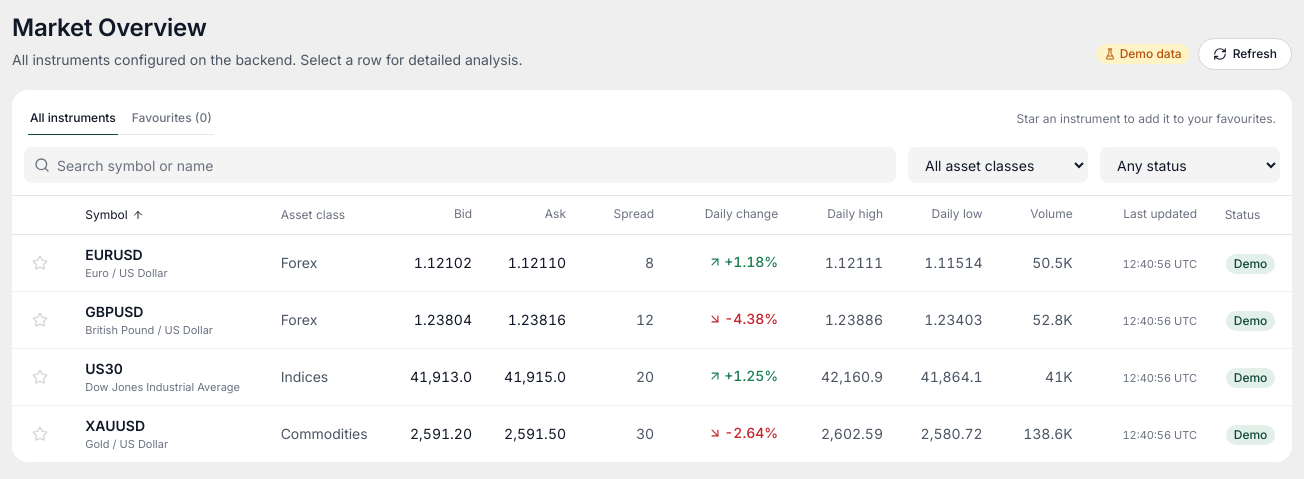
it: favourites › stars an instrument and filters Market Overview to favourites
The width and height of the screenshot is (1304, 479).
Check: the text "Euro / US Dollar" is shown, box [85,266,168,280]
Click the radio button labelled "Favourites (0)": (172, 118) [130,102,214,134]
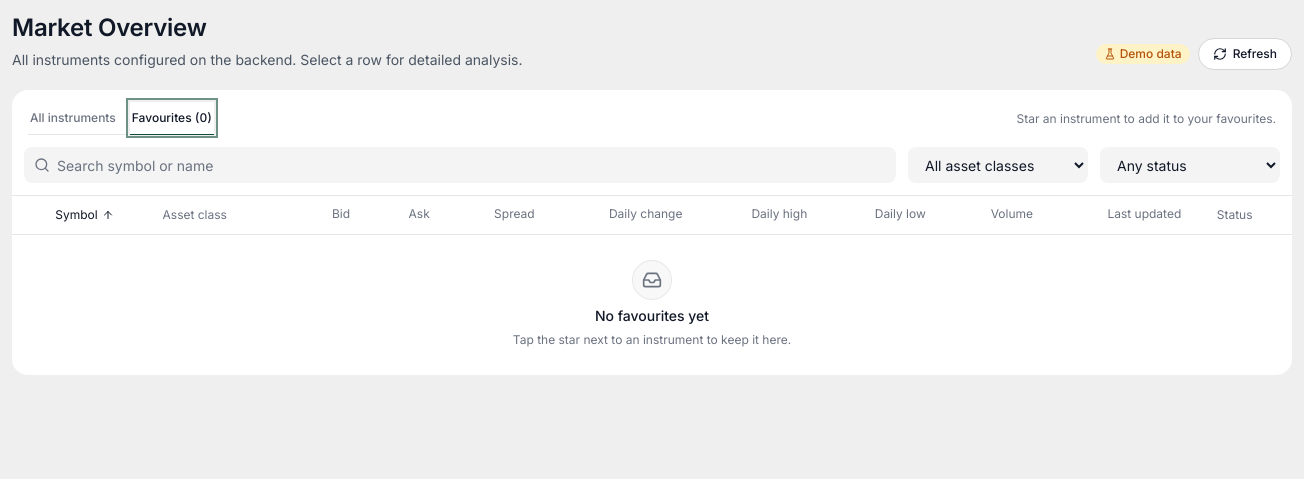
Check: the text "No favourites yet" is shown, box [595,307,709,324]
Click the radio button labelled "All instruments": (73, 118) [28,102,118,134]
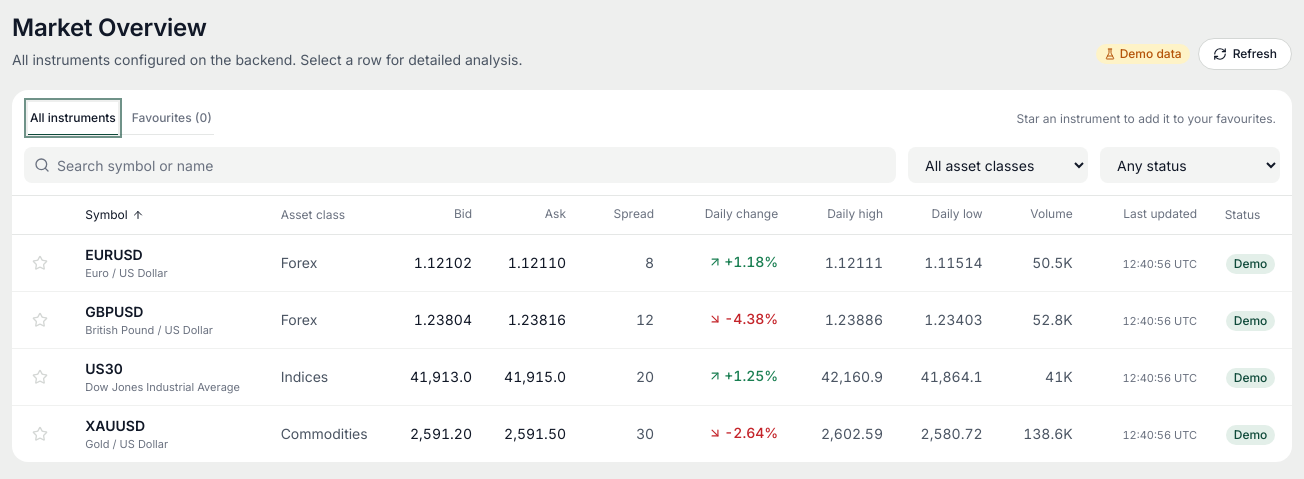
Click the button named "Add GBPUSD to favourites": (40, 320) [24,304,56,336]
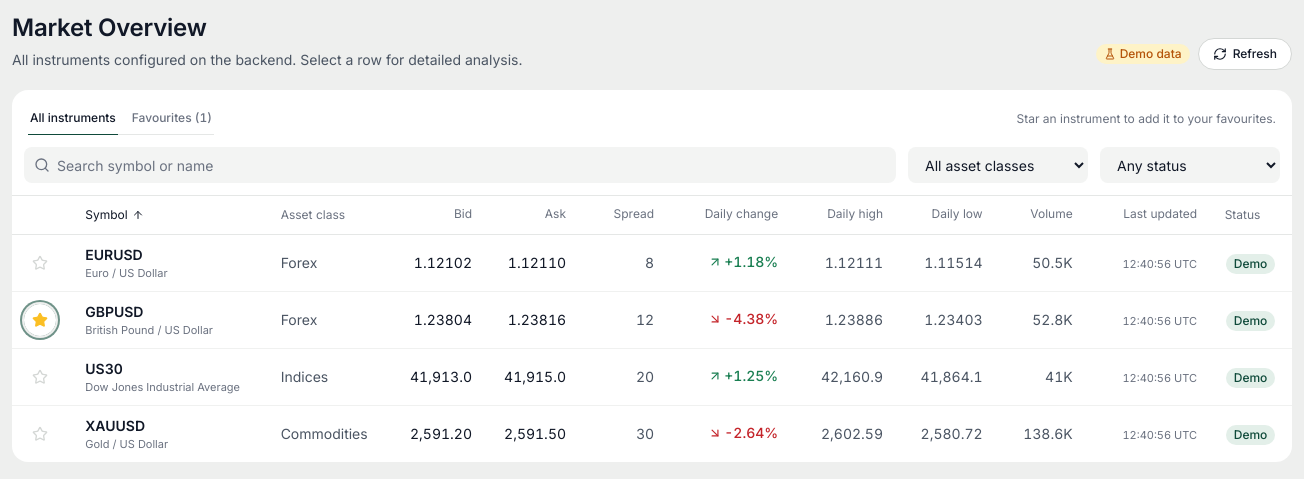
Check: the button named "Remove GBPUSD from favourites" is pressed, box [24,304,56,336]
Click the radio button labelled "Favourites (1)": (172, 118) [130,102,214,134]
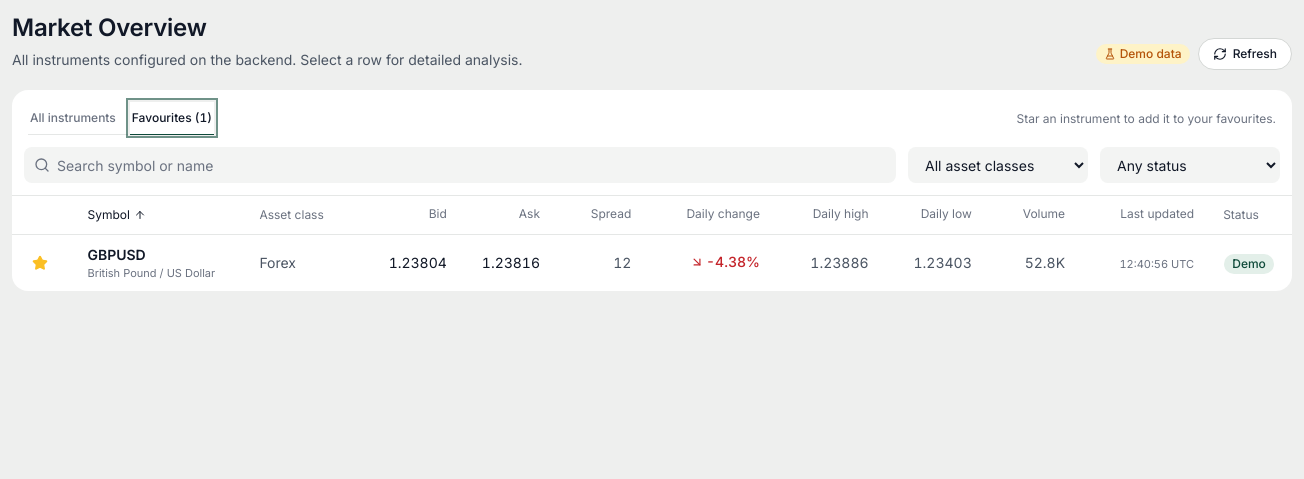
Check: the text "GBPUSD" is shown, box [87,246,146,263]
Check: the text "EURUSD" is gone
